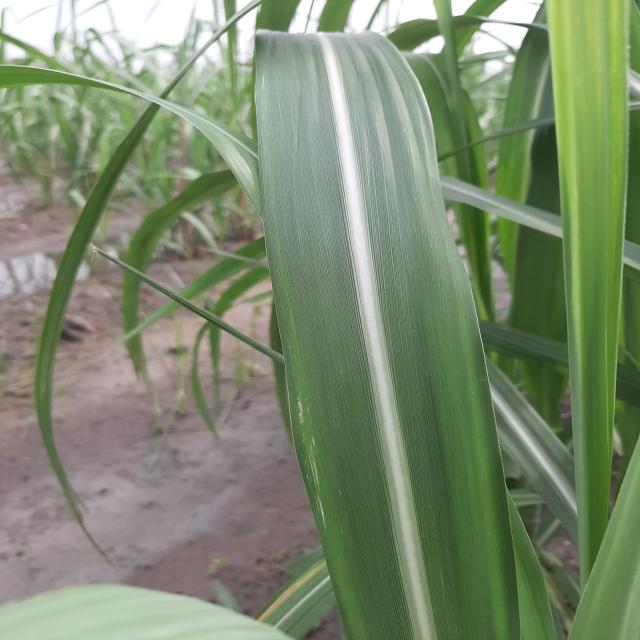Sugarcane: (251, 28, 558, 638)
